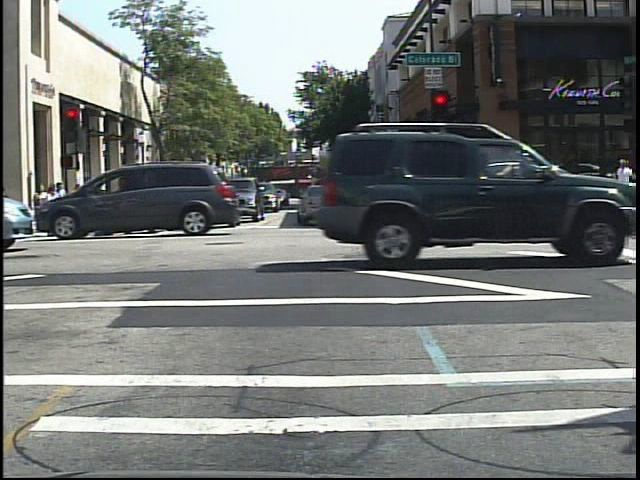person: (614, 153, 637, 192), (165, 181, 183, 221)
